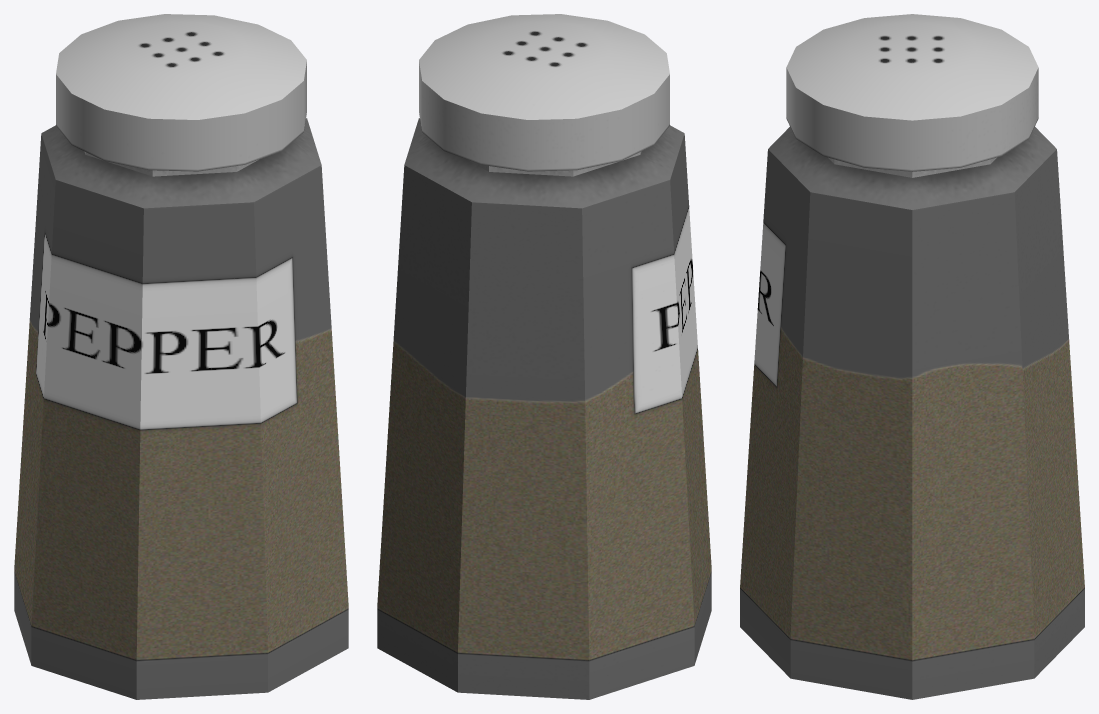
Rendered from salt.FBX.
The picture shows the model from 3 angles, left to right: view 1: azimuth 30°, elevation 25°; view 2: azimuth 150°, elevation 25°; view 3: azimuth 270°, elevation 25°; orthographic projection.
Visible parts, largest first — view 1: Cylinder001; view 2: Cylinder001; view 3: Cylinder001.
Boxes of the visible parts, x1,y1,x2,y2 form: Cylinder001: [14, 14, 348, 699]; Cylinder001: [377, 14, 711, 699]; Cylinder001: [740, 14, 1084, 699].
Bounding box in the file's own units: 3 × 5.54 × 3.
